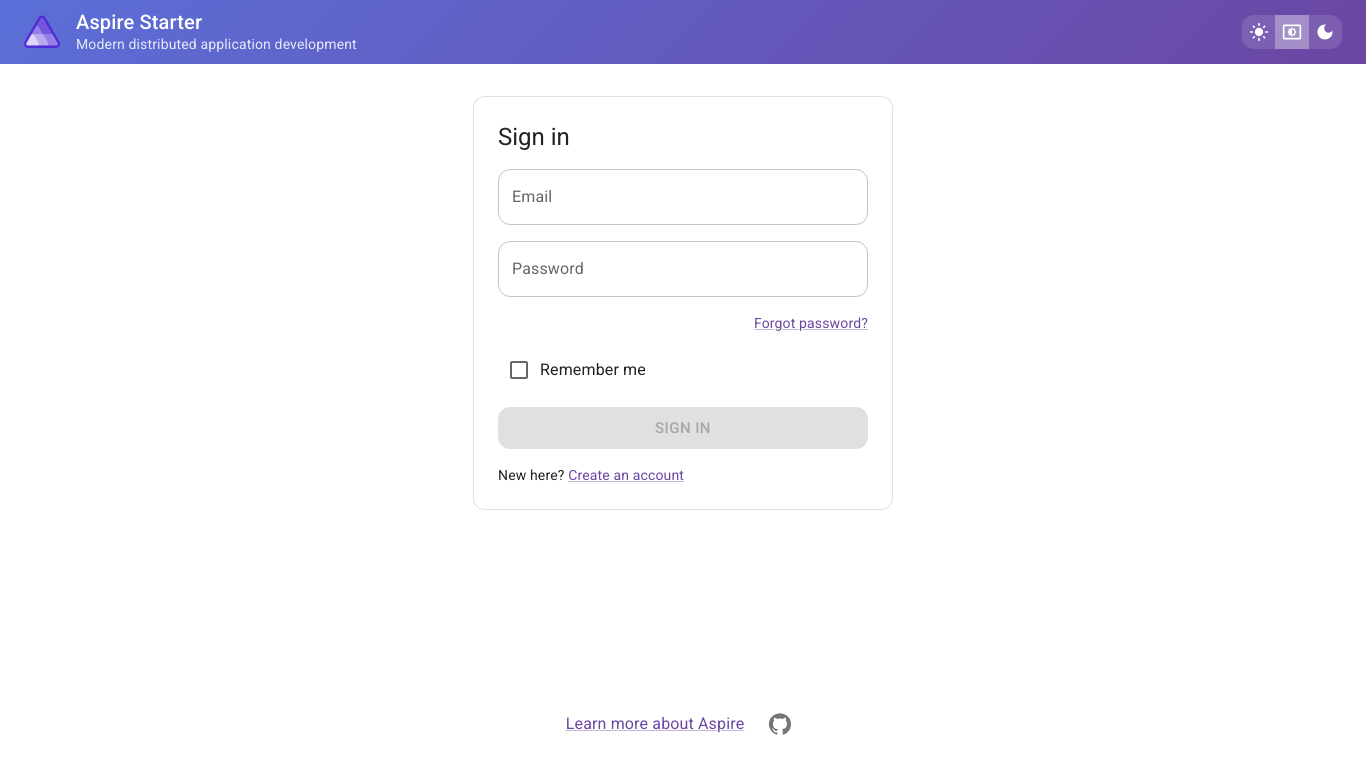
Test: ForgotPasswordPage › is reachable from the sign-in page
The width and height of the screenshot is (1366, 768).
Click the link "Forgot password?" at (811, 323), box [754,313,868,333]
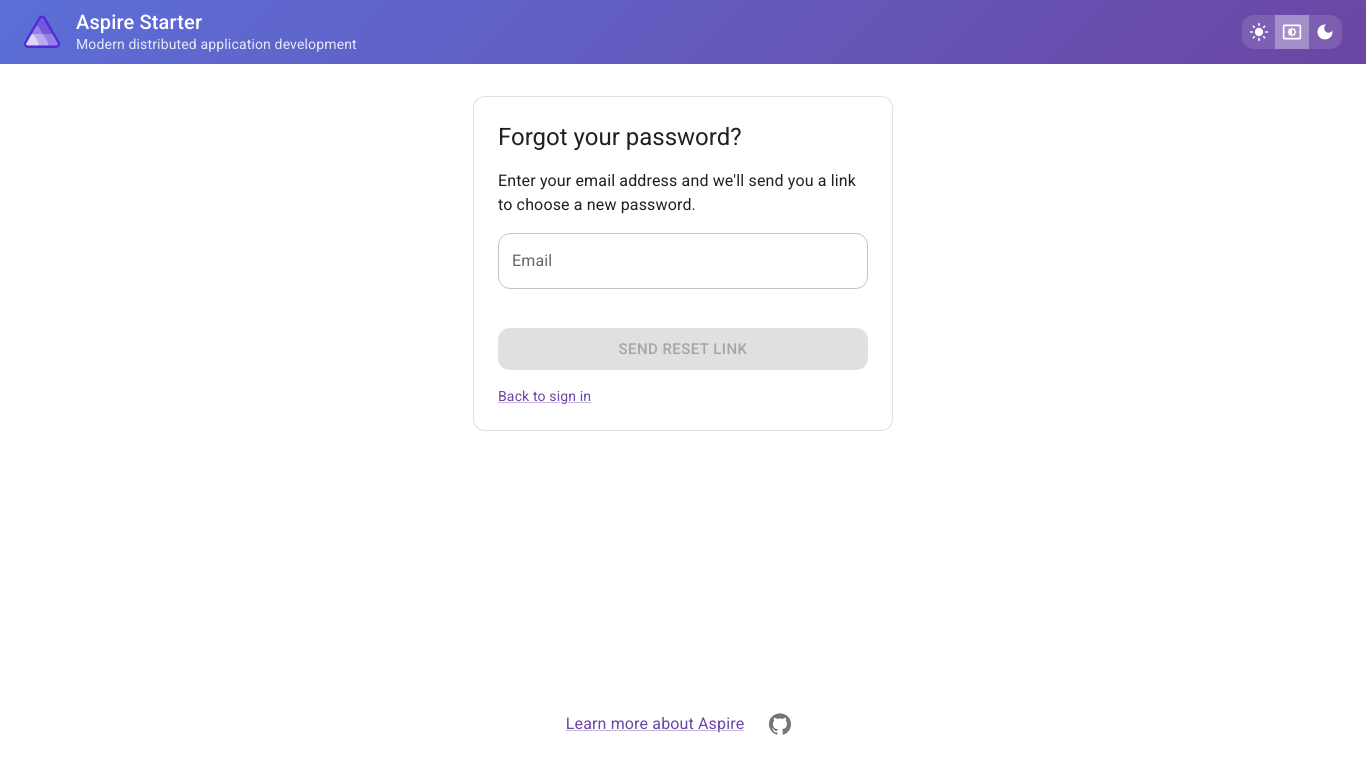
Now the heading "Forgot your password?" is shown, box [498,123,742,151]
